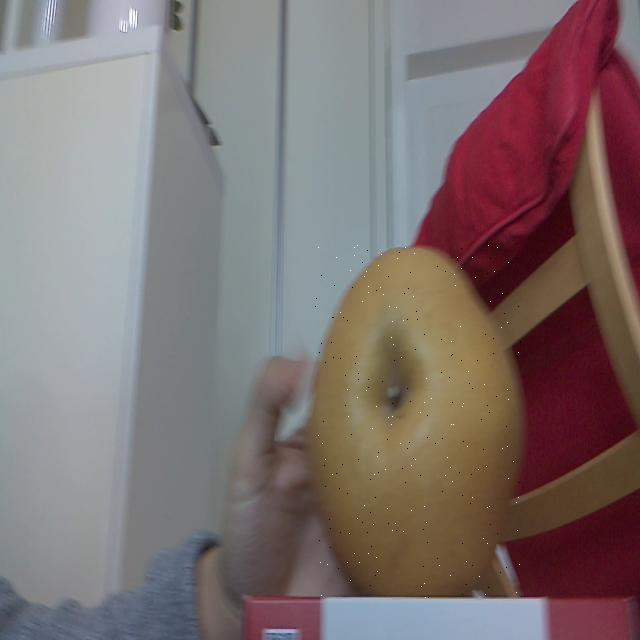pear: (314, 243, 522, 598)
